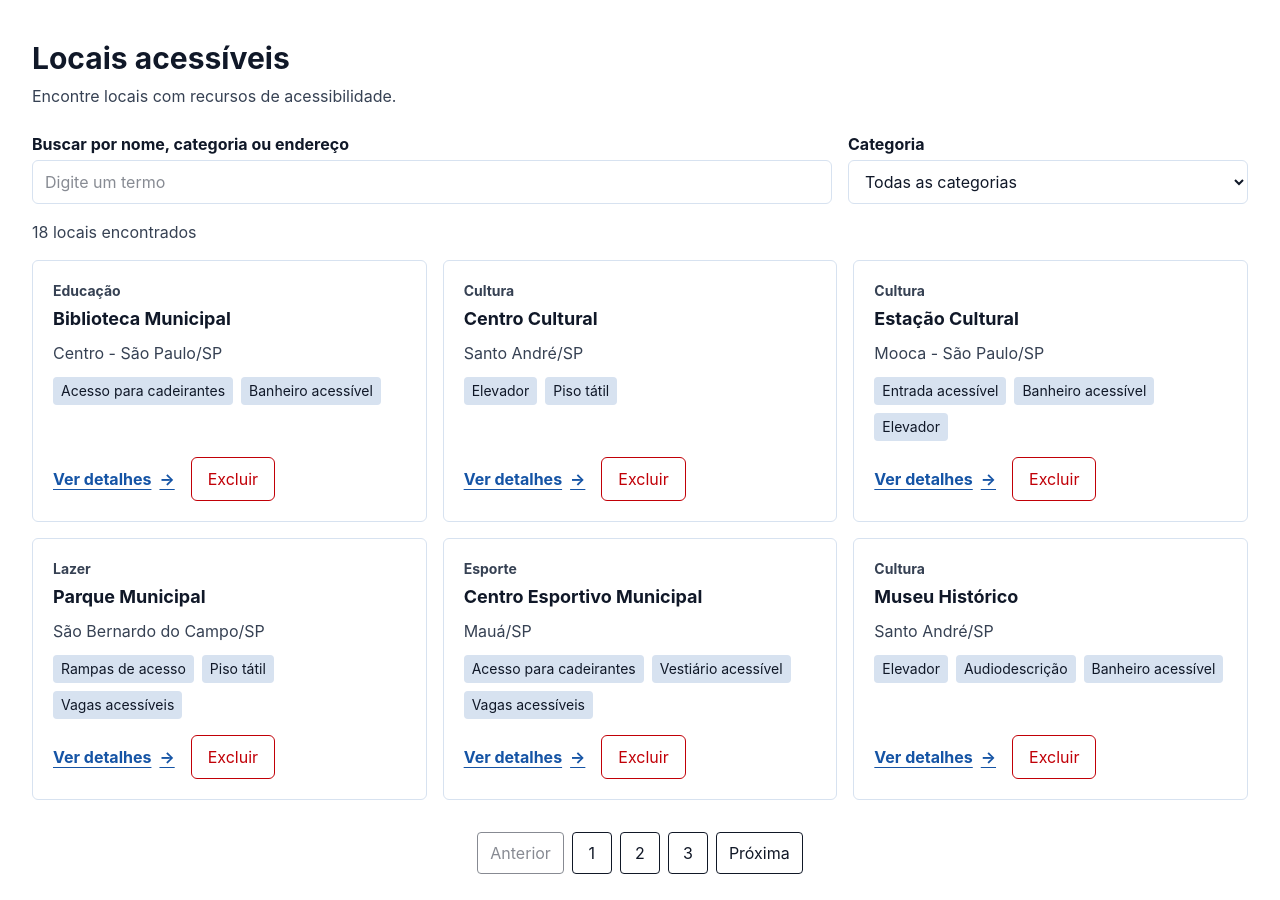
Test: Página Locais — exclusão com confirmação › pede confirmação e não exclui ao cancelar
The width and height of the screenshot is (1280, 900).
Click the button with aria-label "Excluir Parque Municipal": (233, 757) [191, 735, 275, 779]
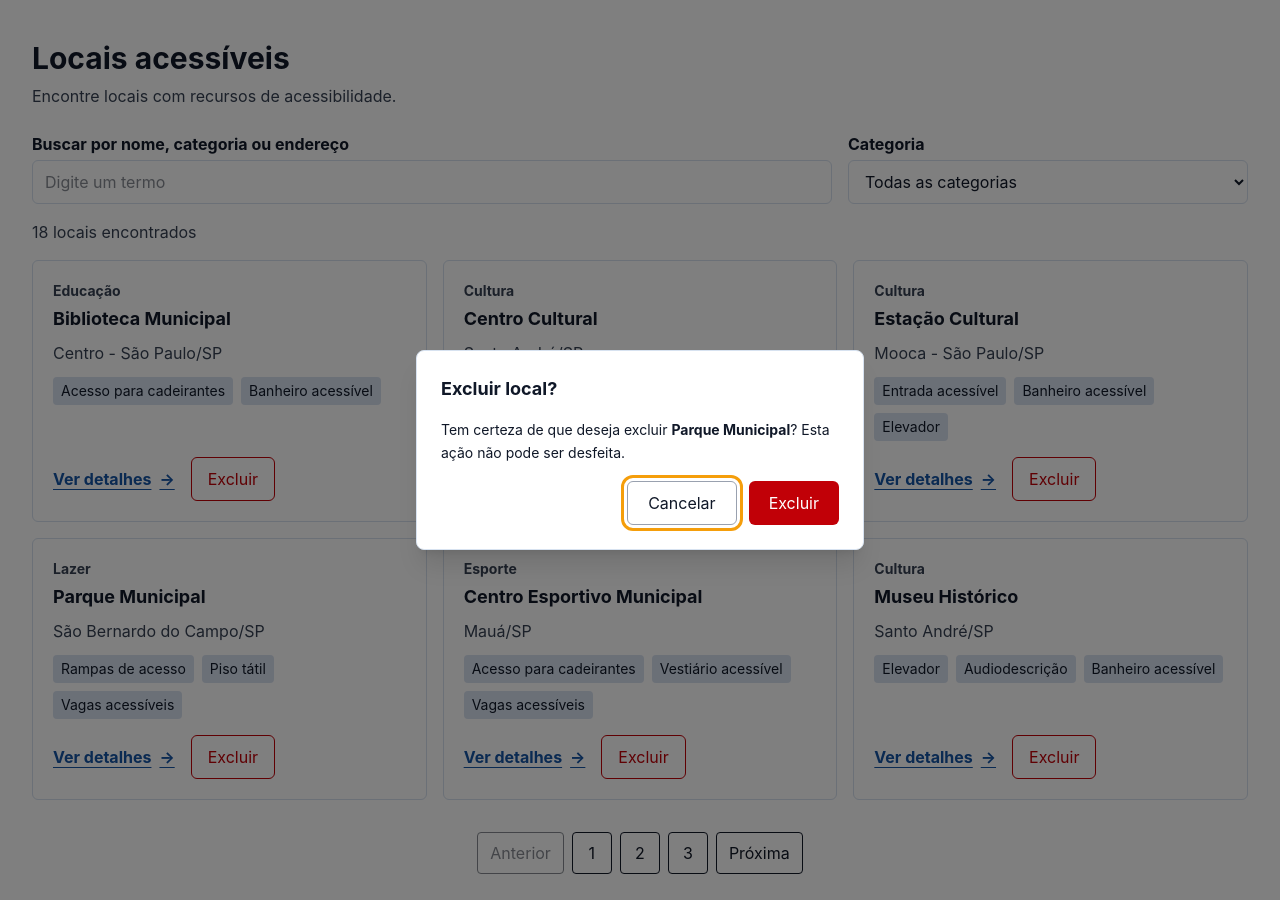
Now the dialog "Excluir local?" shows "Parque Municipal", box [671, 421, 790, 438]
Click the button "Cancelar": (682, 503) [627, 481, 737, 525]
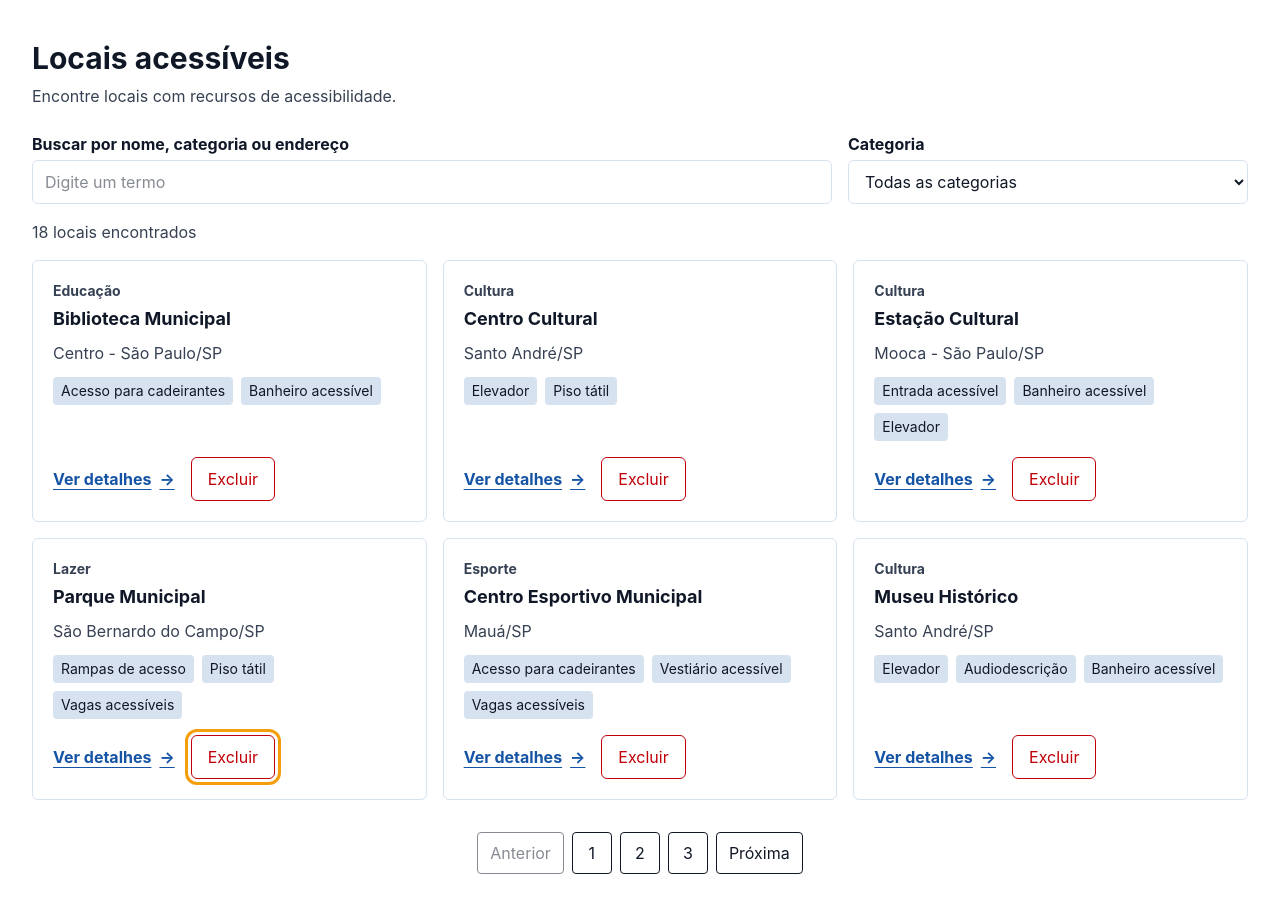
Expected: the heading "Parque Municipal" is shown, [53, 586, 206, 607]
Now the dialog is gone
